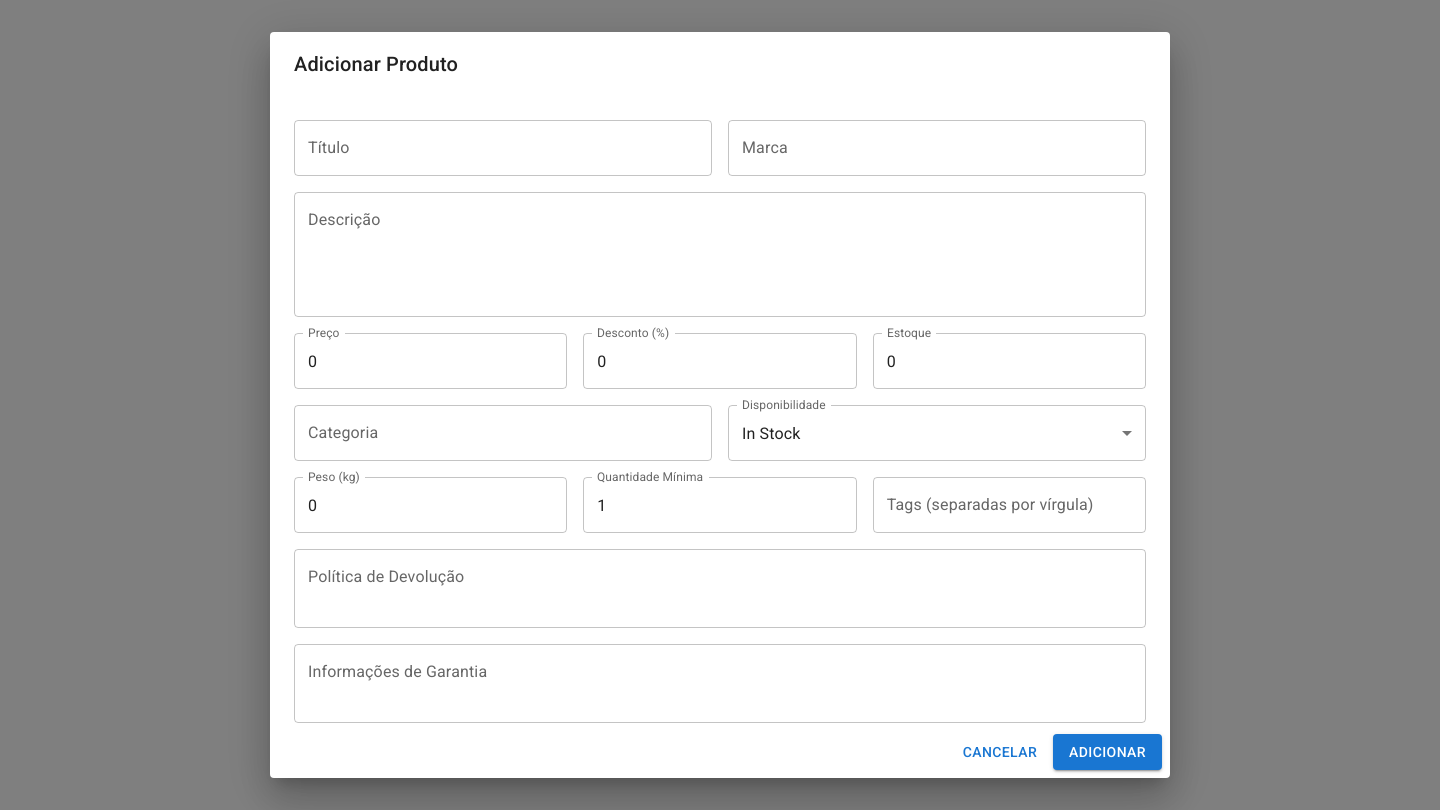
Test: ProductEditForm Component › deve validar campos obrigatórios
The image size is (1440, 810).
Click the button with test id "add-button": (1108, 752) [1053,734,1162,770]
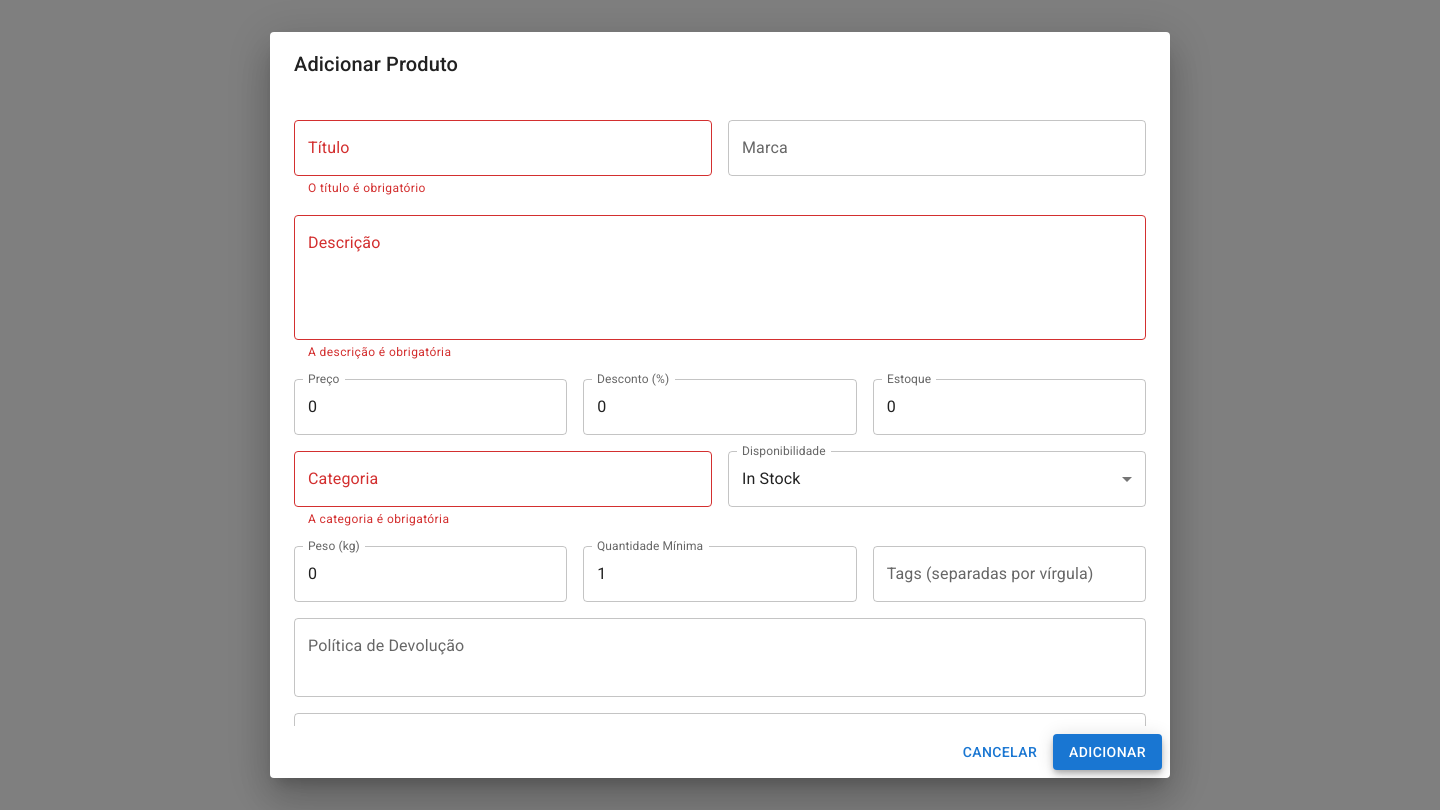
Check: the text "O título é obrigatório" is shown, box [308,181,426,195]
Check: the text "A descrição é obrigatória" is shown, box [308,345,451,359]
